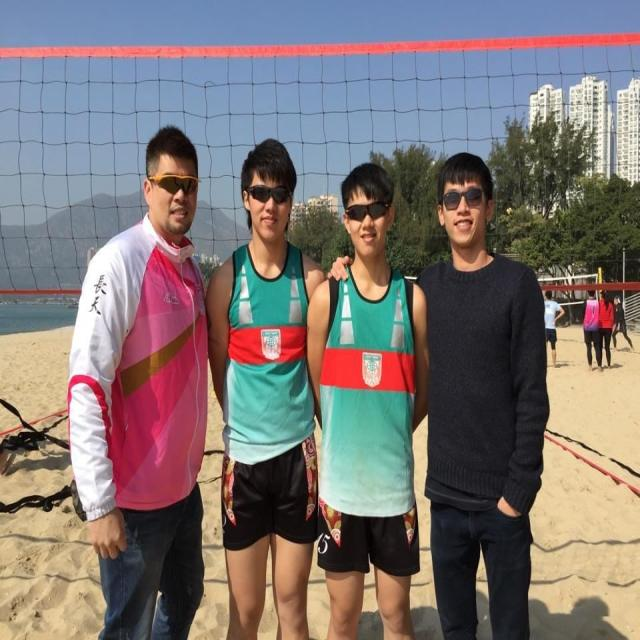body: (63, 125, 214, 639), (412, 148, 550, 640), (203, 131, 328, 639), (302, 152, 432, 639), (543, 288, 566, 371), (581, 289, 603, 373), (608, 292, 635, 353), (598, 288, 615, 372)
